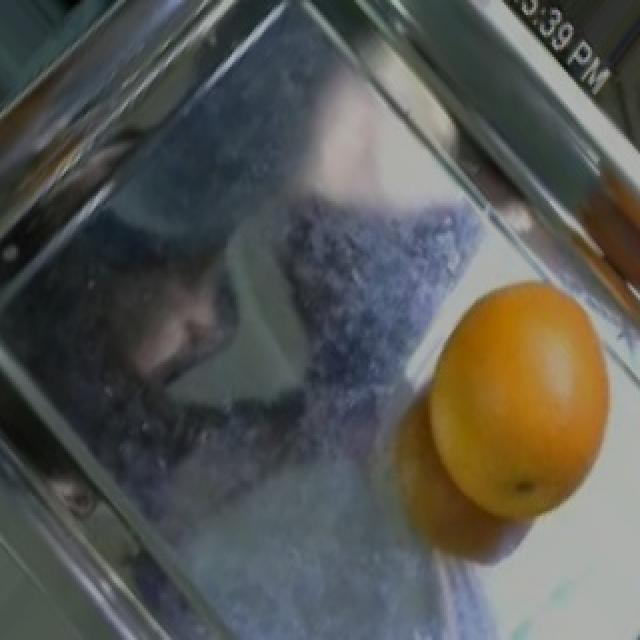Fruit: (390, 268, 636, 556)
